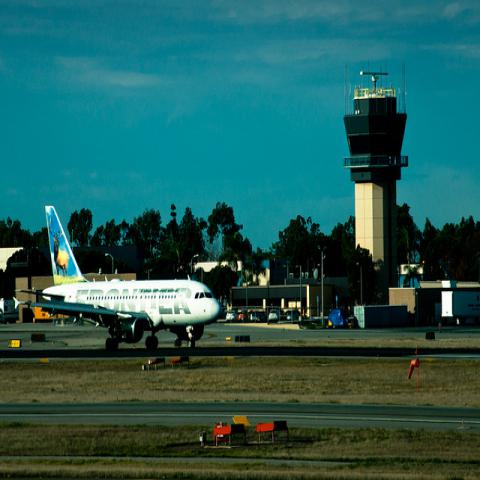car: (226, 310, 237, 322), (286, 311, 298, 320), (238, 314, 248, 322)
